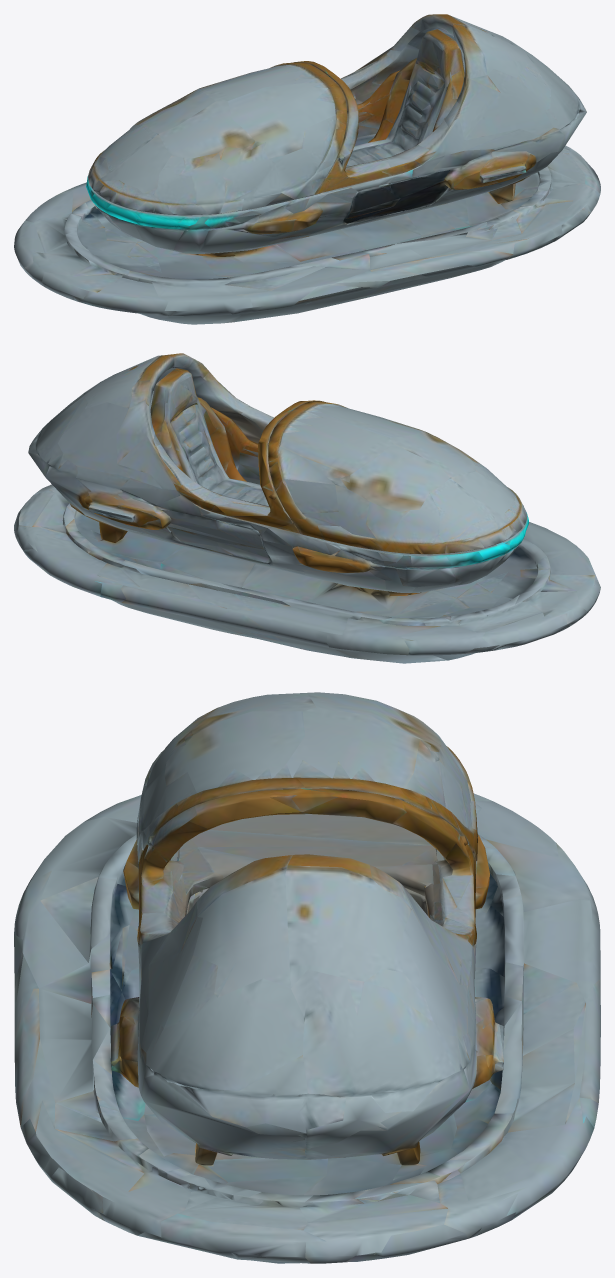
Rendered from alp_hero_prism_alt.glb.
3 views of the same model, one above another, from view 1: azimuth 30°, elevation 25°; view 2: azimuth 150°, elevation 25°; view 3: azimuth 270°, elevation 25° (orthographic). The views are drawn at different scales.
Bounding box in the file's own units: 1.9 × 0.6742 × 1.03.
Materials: 1 (1 with a texture image).
